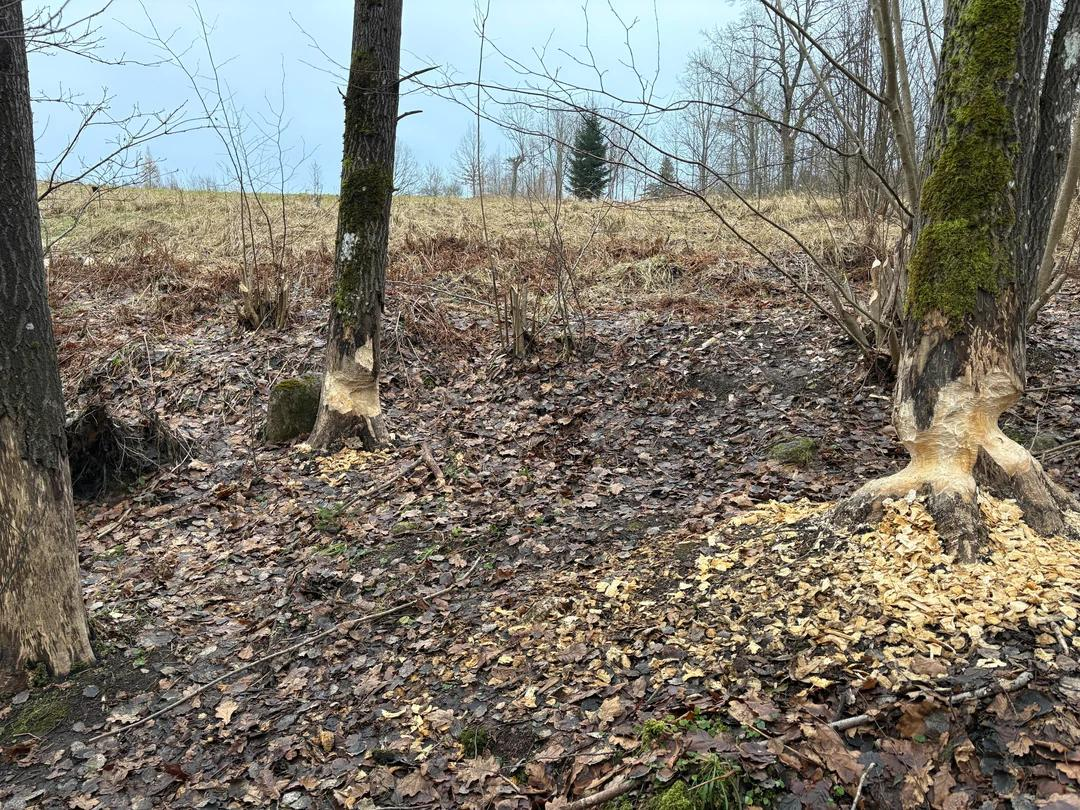mechanical damage: (864, 367, 1042, 501), (327, 337, 378, 416)
